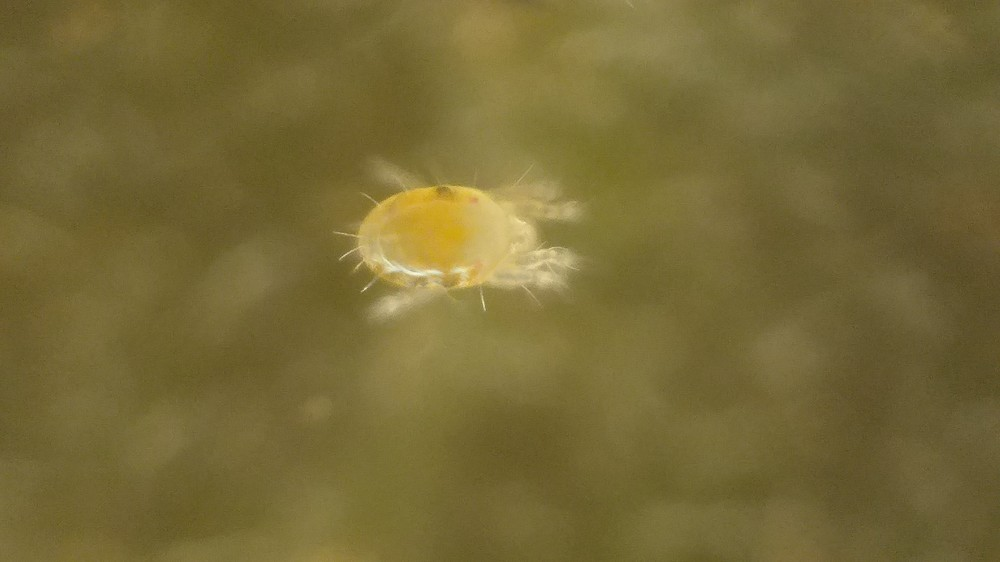Aracnido Rojo: (319, 127, 614, 326)
